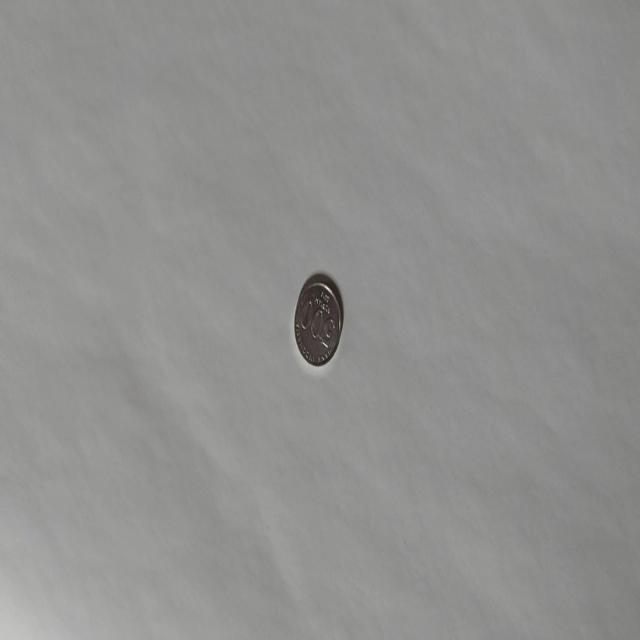lima ratus rupiah: (293, 273, 343, 367)
